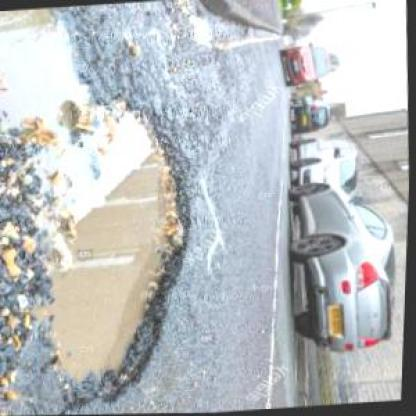pothole: (4, 89, 212, 413), (0, 4, 110, 158), (190, 15, 218, 49)
